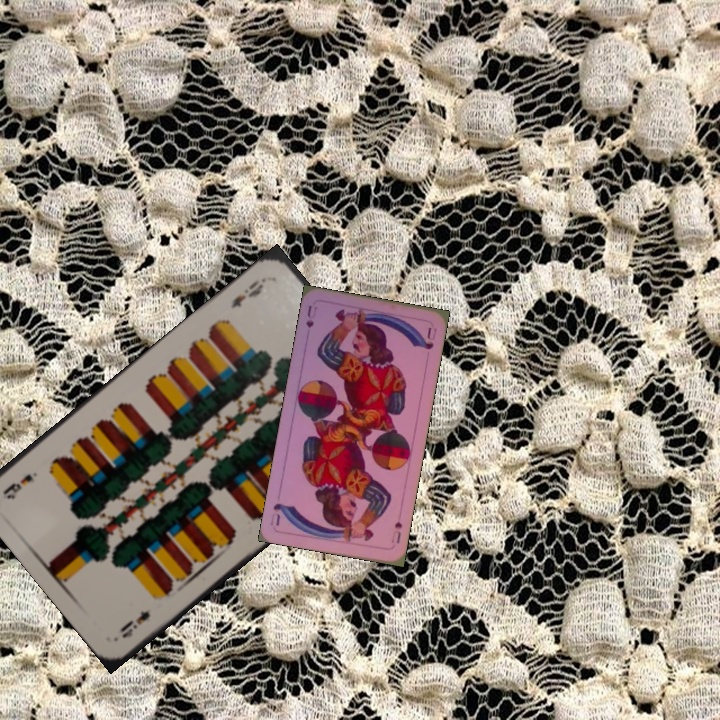E9: (226, 273, 269, 311), (116, 606, 153, 641)
SU: (302, 301, 320, 331), (387, 517, 405, 546)
